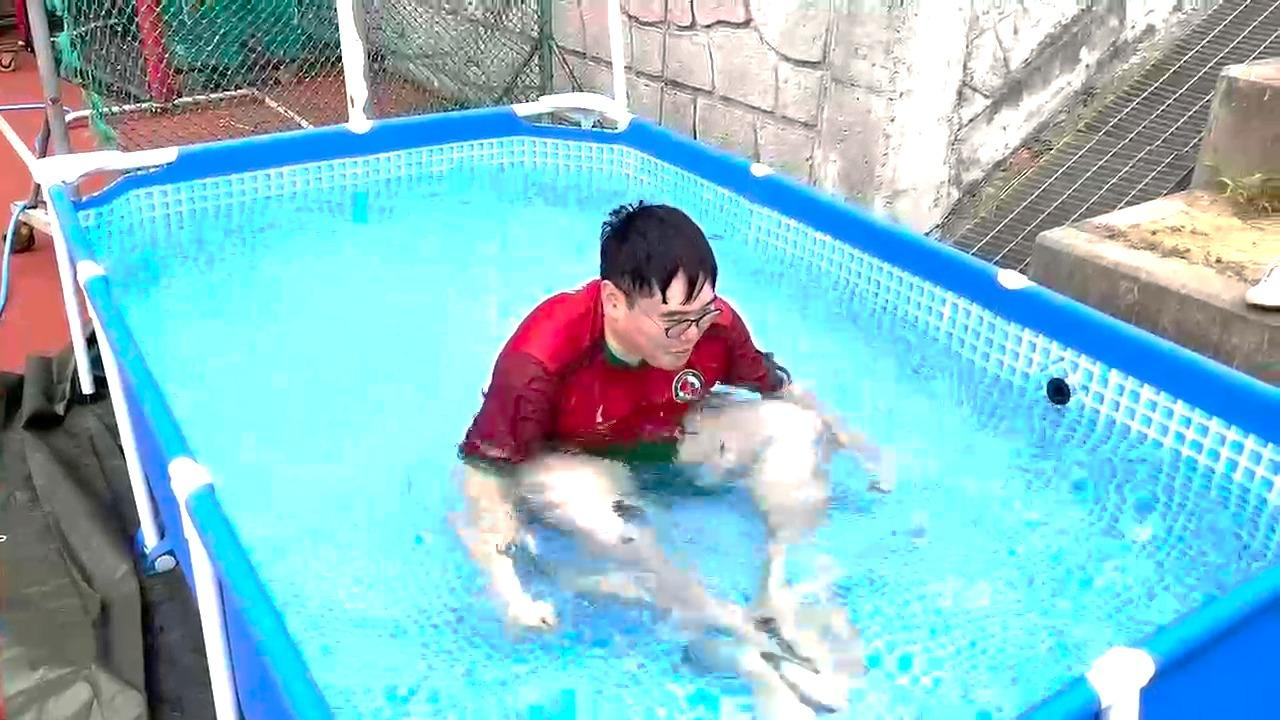Swimming: (400, 177, 914, 668)
